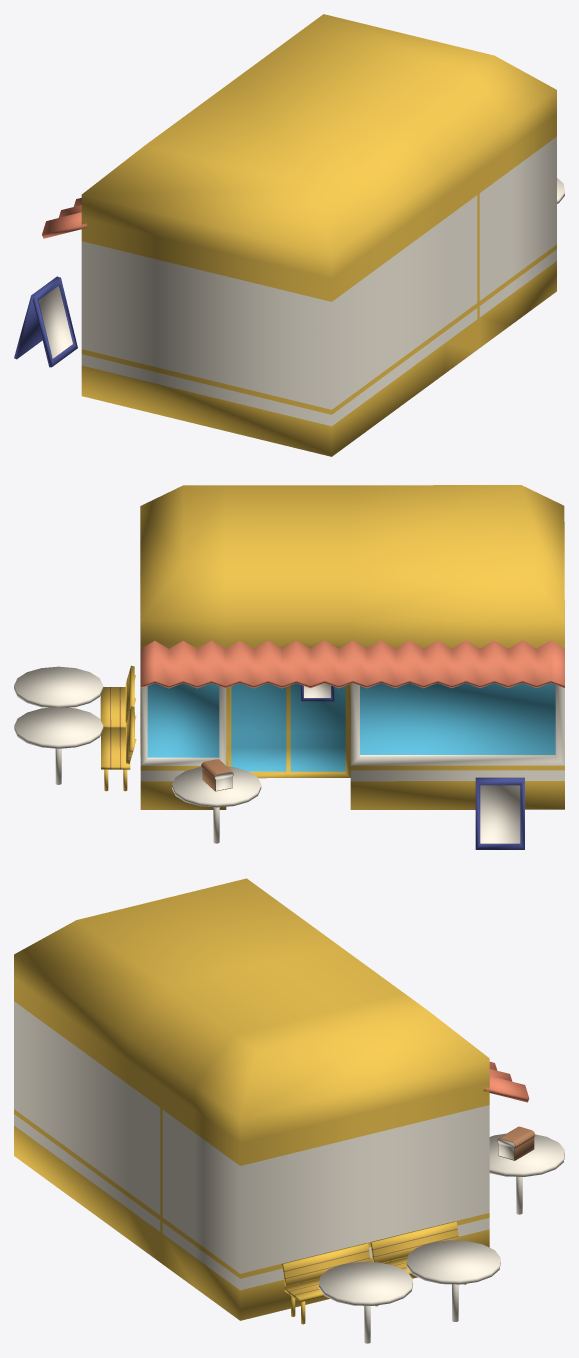
The model's file is 043_パン屋.glb.
3 renders of one model, top to bottom at view 1: azimuth 30°, elevation 25°; view 2: azimuth 150°, elevation 25°; view 3: azimuth 270°, elevation 25°, orthographic. The views are drawn at different scales.
Visible parts, largest first — view 1: 立方体043_3, 立方体043_1, 立方体043_6, 立方体043_5, 立方体043_2; view 2: 立方体043_3, 立方体043_7, 立方体043_2, 立方体043, 立方体043_1, 立方体043_5, 立方体043_6, 立方体043_4; view 3: 立方体043_3, 立方体043_1, 立方体043, 立方体043_4, 立方体043_2.
Boxes of the visible parts, left/top/right/bottom form: 立方体043_3: left=81, top=14, right=556, bottom=456; 立方体043_1: left=81, top=137, right=556, bottom=426; 立方体043_6: left=14, top=276, right=77, bottom=367; 立方体043_5: left=38, top=286, right=72, bottom=358; 立方体043_2: left=42, top=198, right=87, bottom=238; 立方体043_3: left=100, top=485, right=564, bottom=809; 立方体043_7: left=147, top=683, right=555, bottom=771; 立方体043_2: left=140, top=640, right=564, bottom=688; 立方体043: left=14, top=666, right=261, bottom=843; 立方体043_1: left=140, top=611, right=564, bottom=781; 立方体043_5: left=304, top=683, right=520, bottom=843; 立方体043_6: left=301, top=685, right=524, bottom=849; 立方体043_4: left=109, top=672, right=233, bottom=791; 立方体043_3: left=14, top=878, right=489, bottom=1324; 立方体043_1: left=14, top=1001, right=489, bottom=1290; 立方体043: left=319, top=1133, right=564, bottom=1343; 立方体043_4: left=283, top=1126, right=535, bottom=1298; 立方体043_2: left=483, top=1061, right=529, bottom=1102.
Size of the model in its own units: 5.86 by 2.58 by 5.1.
